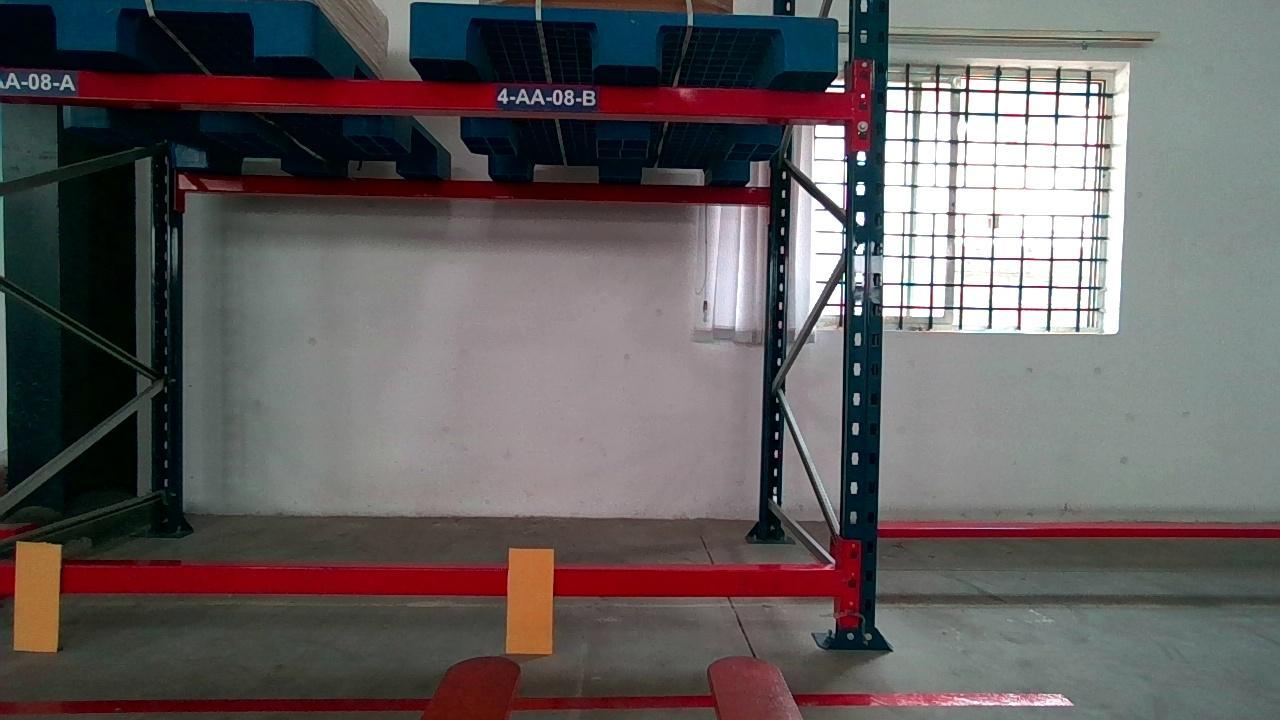h_rack: (5, 66, 850, 120), (0, 563, 843, 600)
orange_strip: (15, 542, 64, 652), (506, 548, 554, 653)
red_line: (1, 691, 1072, 714)
small_pallet: (409, 1, 836, 72)
